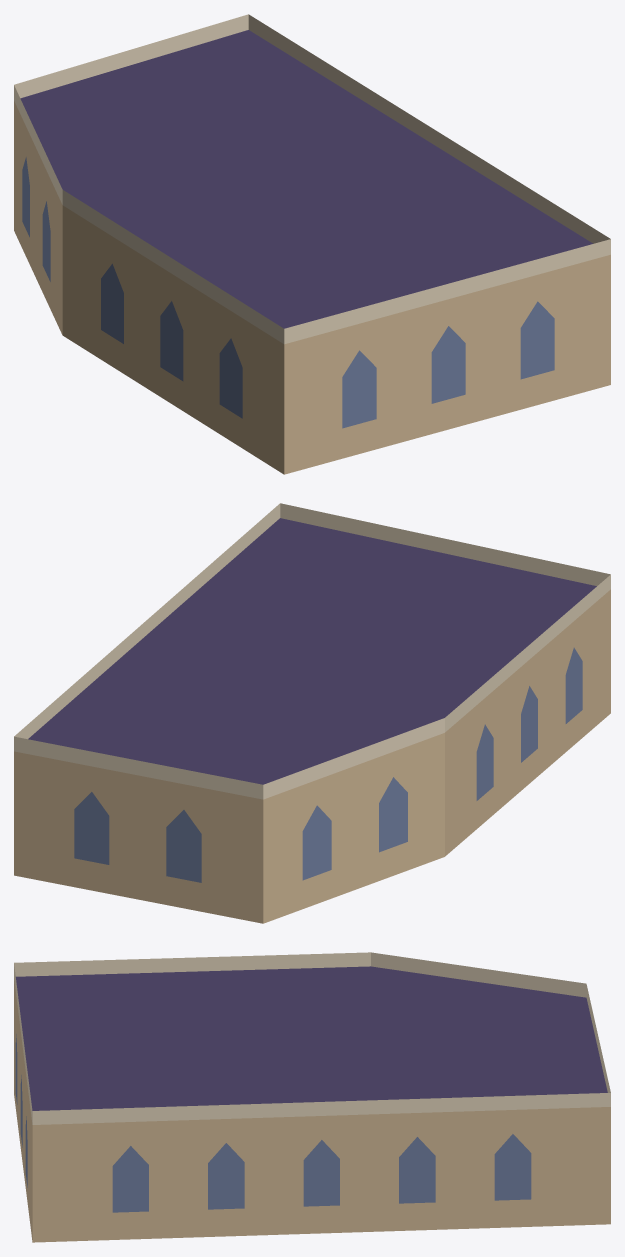
File: b-033-day.glb
The picture shows the model from 3 angles, top to bottom: view 1: azimuth 30°, elevation 25°; view 2: azimuth 150°, elevation 25°; view 3: azimuth 270°, elevation 25°; orthographic projection. The views are drawn at different scales.
Parts seen in each view (by area): view 1: campus/b-033-day-0; view 2: campus/b-033-day-0; view 3: campus/b-033-day-0.
Boxes of the visible parts, x1,y1,x2,y2 form: campus/b-033-day-0: [14, 14, 610, 474]; campus/b-033-day-0: [14, 503, 610, 923]; campus/b-033-day-0: [14, 952, 610, 1242].
Size of the model in its own units: 13.32 by 5.15 by 21.18.
